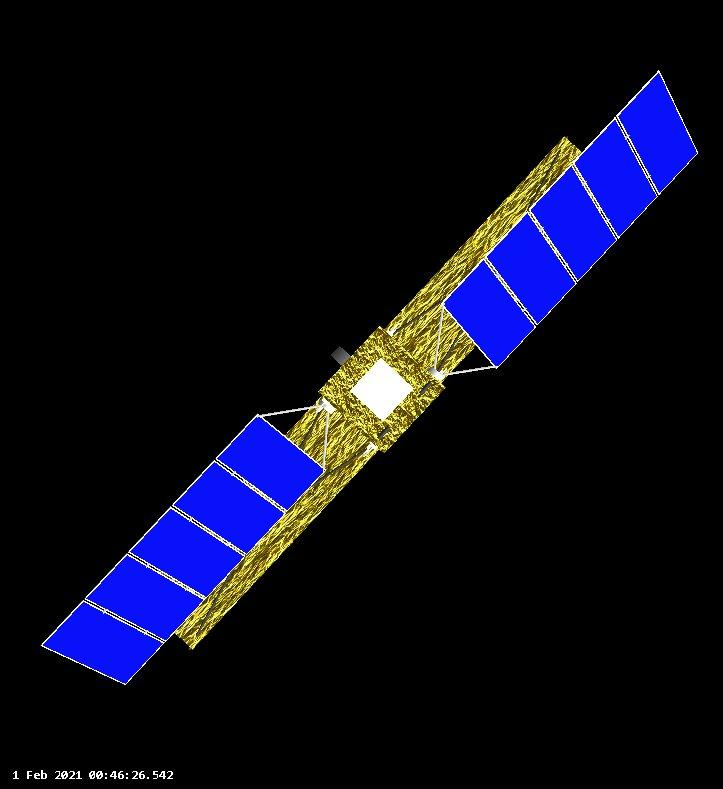body: (319, 319, 448, 458)
solar: (38, 396, 336, 689), (427, 63, 702, 380)
